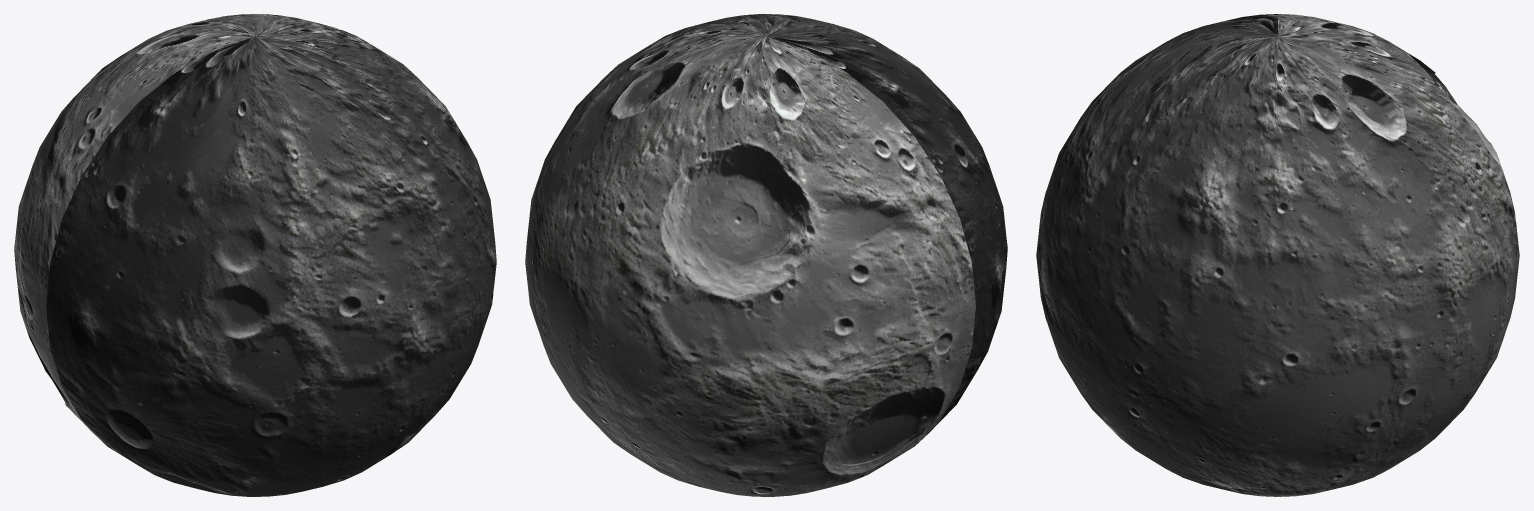
The model's file is Luna.fbx.
The picture shows the model from 3 angles, left to right: view 1: azimuth 30°, elevation 25°; view 2: azimuth 150°, elevation 25°; view 3: azimuth 270°, elevation 25°; orthographic projection.
Parts seen in each view (by area): view 1: Sphere; view 2: Sphere; view 3: Sphere.
Boxes of the visible parts, x1,y1,x2,y2 form: Sphere: (14, 14, 496, 496); Sphere: (525, 14, 1007, 496); Sphere: (1036, 14, 1519, 496).
Bounding box in the file's own units: 200 × 200 × 200.
